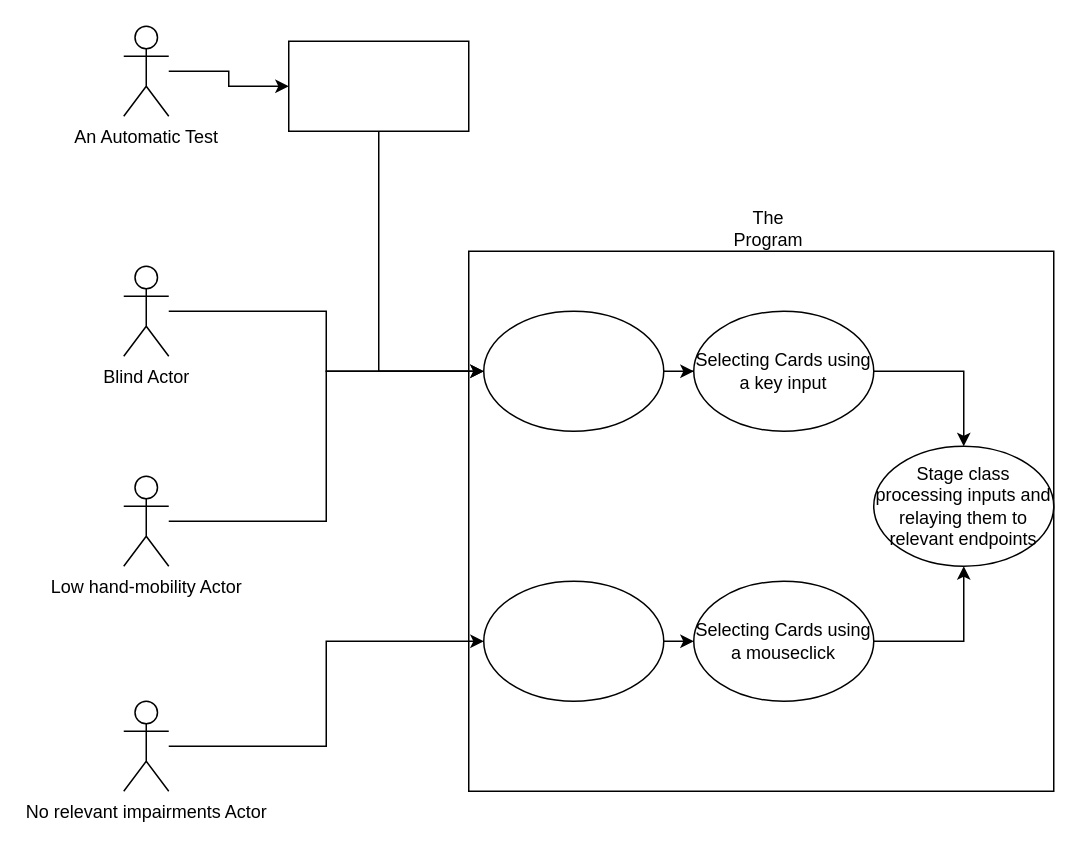
This 1080x849 diagram has some shape labels left out. The centre of each missing label's shape, as x and y in pixels:
A series of virtual keypresses: the point at 378,85
Moving a cursor with arrow keys: the point at 573,370
Moving their cursor with the mouse: the point at 573,640
